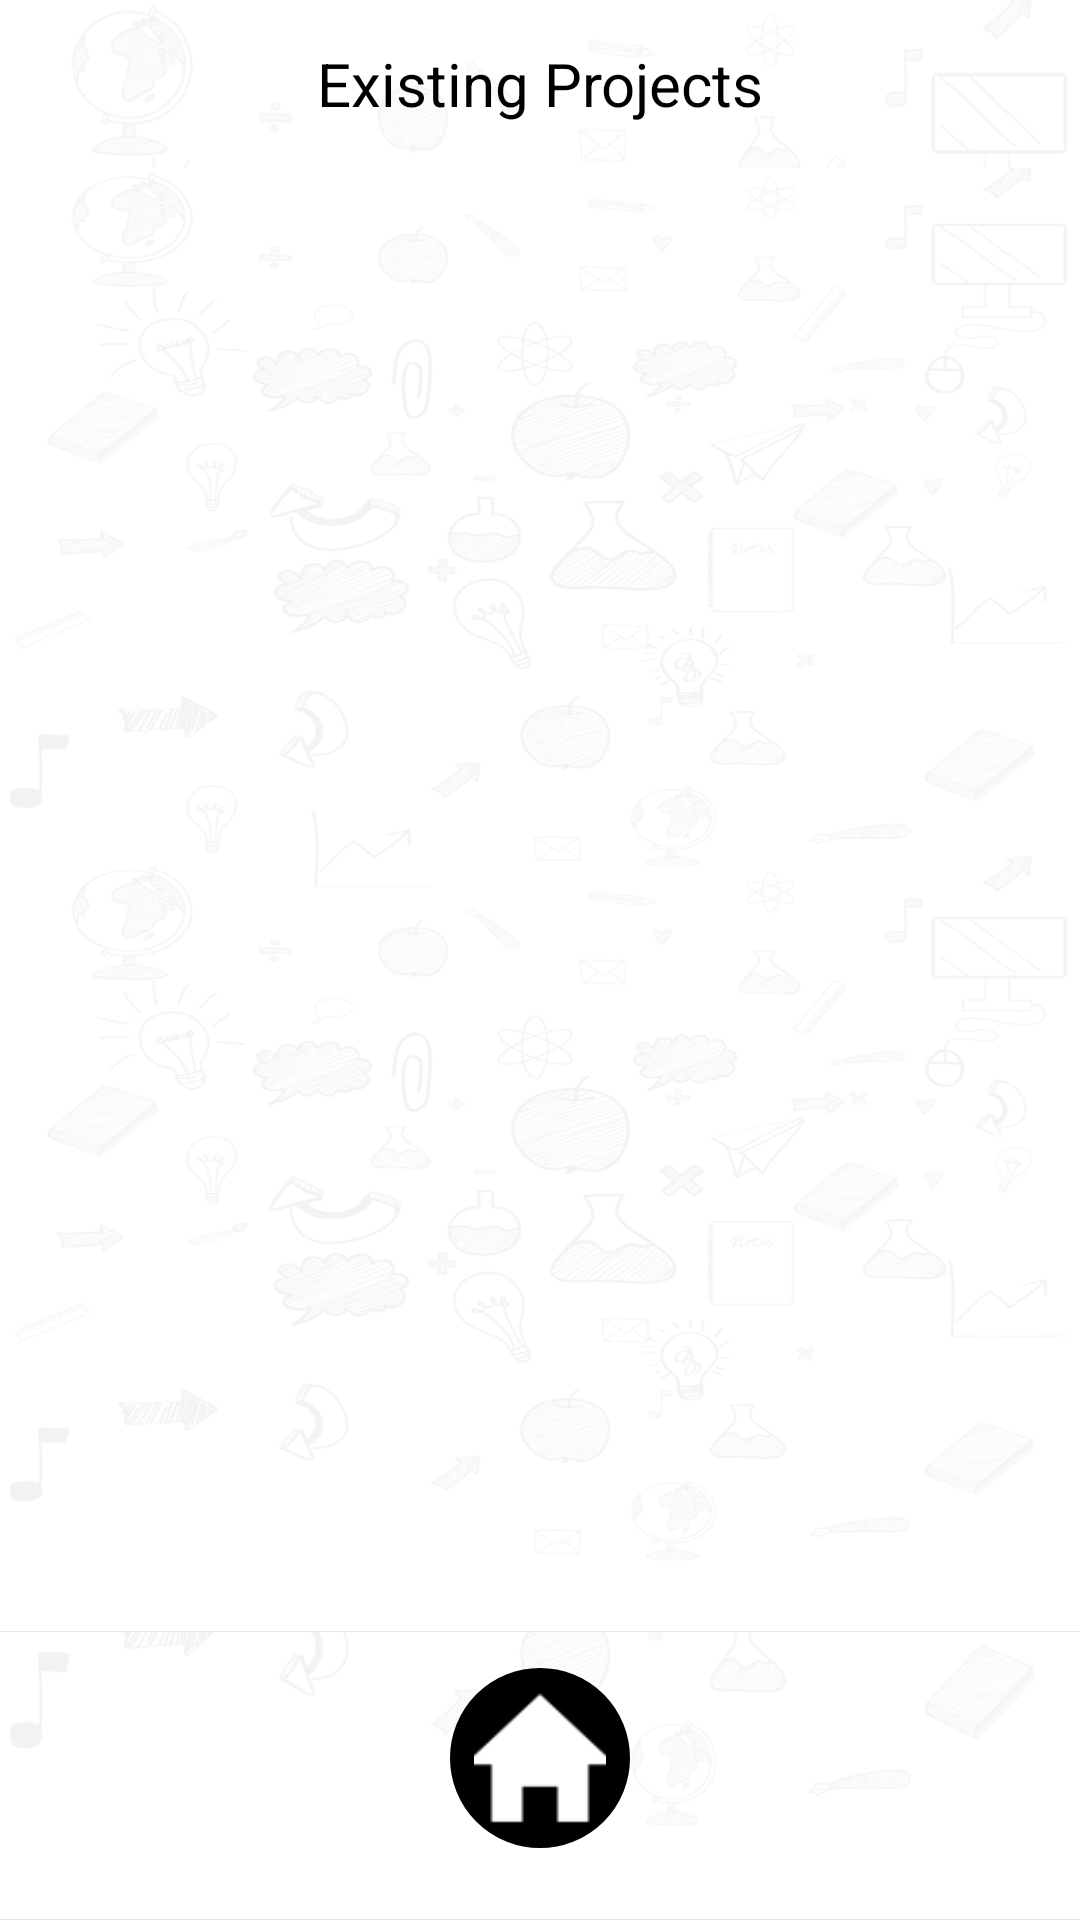

Named icons in this screenshot (1080w x 1920h) and their bounding boxes, [x1, y1, x2, y2]:
home: [450, 1668, 630, 1848]
